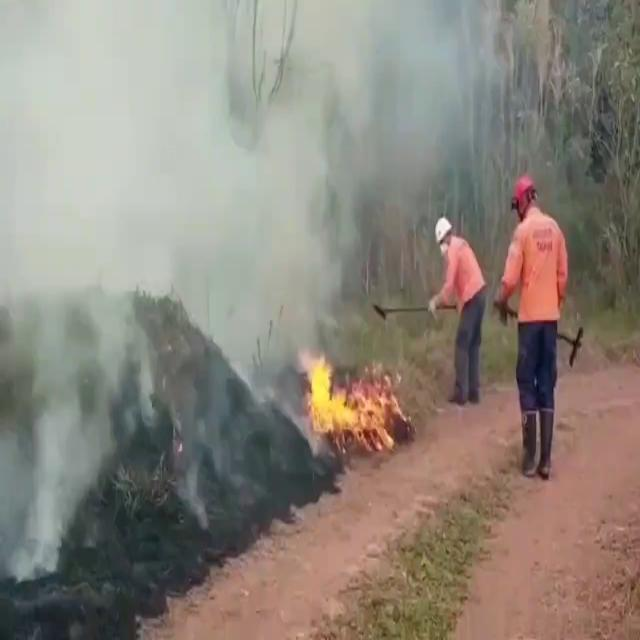Fire: (296, 340, 399, 450)
Smoke: (1, 0, 513, 369), (0, 151, 201, 601)
